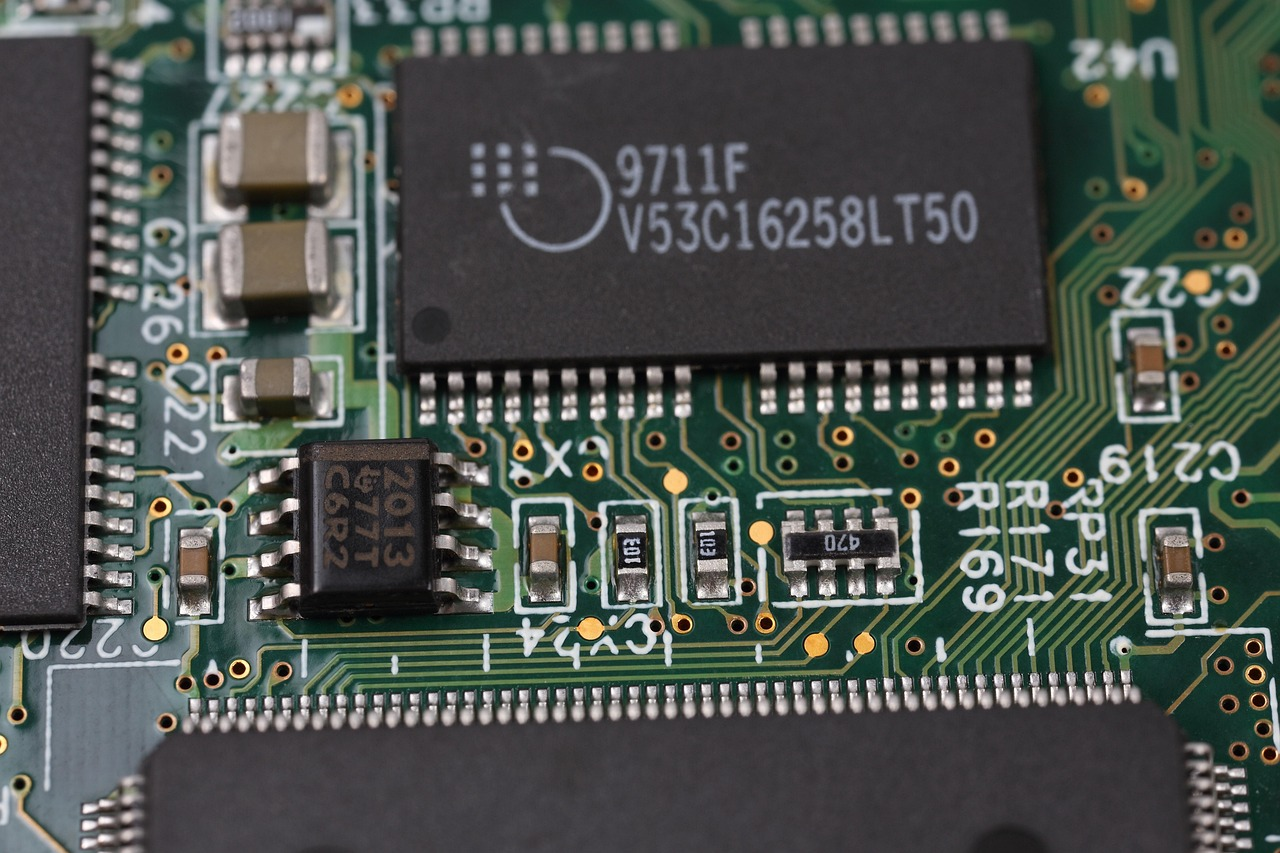kondensator: (200, 217, 358, 325), (203, 104, 347, 204), (213, 362, 339, 423), (1139, 511, 1203, 625), (518, 511, 572, 610), (176, 522, 219, 616), (1118, 319, 1162, 410)
